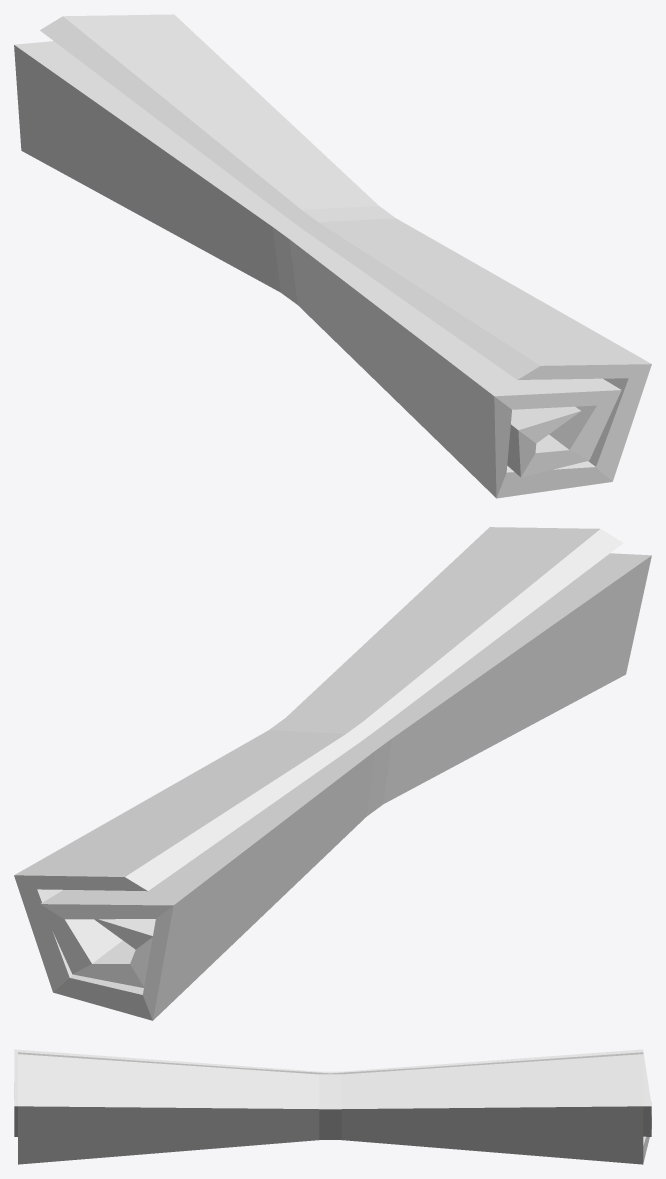
File: paper04.gltf
The picture shows the model from 3 angles, top to bottom: view 1: azimuth 30°, elevation 25°; view 2: azimuth 150°, elevation 25°; view 3: azimuth 270°, elevation 25°; orthographic projection. The views are drawn at different scales.
Visible parts, largest first — view 1: Cube; view 2: Cube; view 3: Cube.
Boxes of the visible parts, x1=… form: Cube: x1=14, y1=14, x2=651, y2=498; Cube: x1=14, y1=527, x2=651, y2=1020; Cube: x1=14, y1=1049, x2=651, y2=1164.
Size of the model in its own units: 0.0468 by 0.0373 by 0.2465.
Materials: 1 (1 with a texture image).
